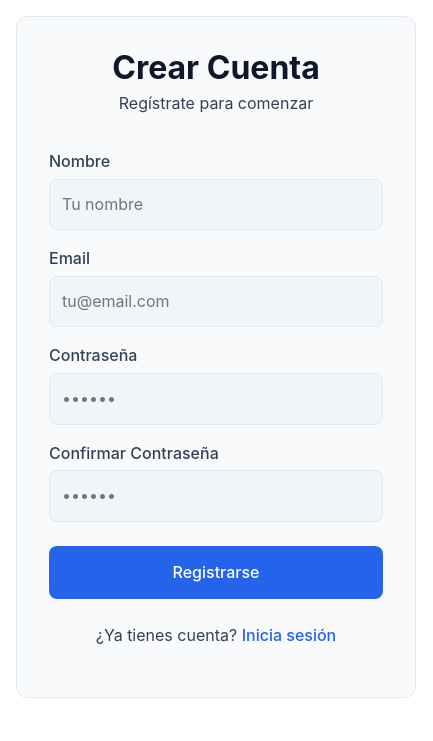
Flujo de Autenticación › Register › debe validar que las contraseñas coincidan
This screenshot has width=433, height=741.
Type "Test User" into the field labelled "Nombre" at (216, 204), box [49, 179, 383, 230]
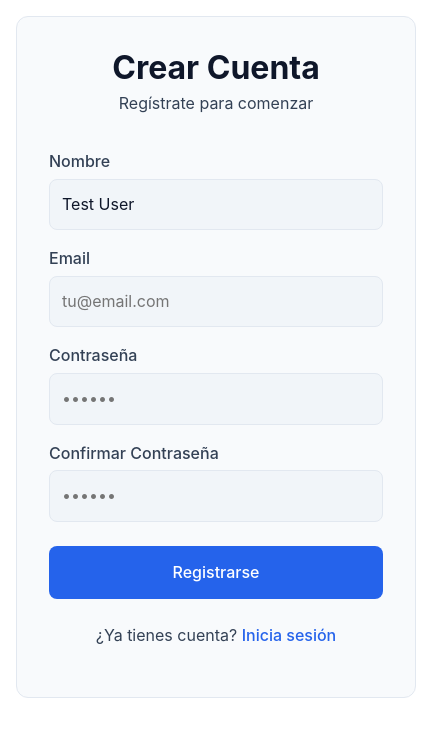
Type "test@test.com" into the field labelled "Email" at (216, 302), box [49, 276, 383, 327]
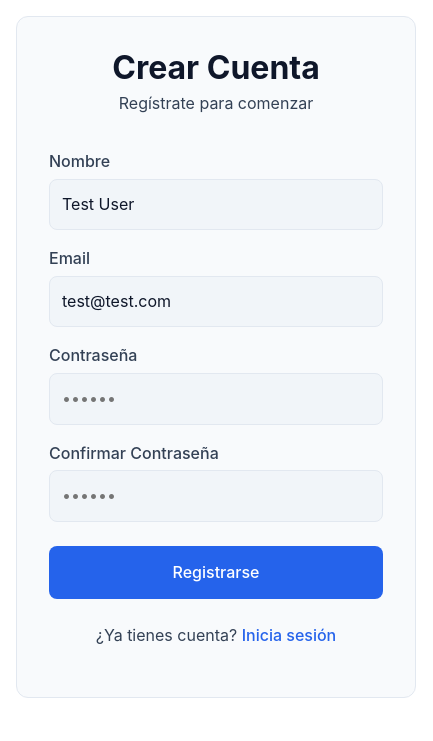
Type "password123" into the password field labelled "Contraseña" at (216, 399), box [49, 373, 383, 425]
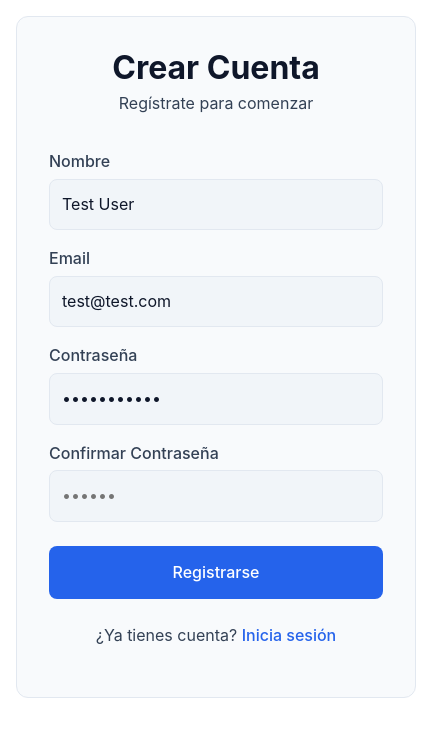
Type "password456" into the password field labelled "Confirmar Contraseña" at (216, 496), box [49, 470, 383, 522]
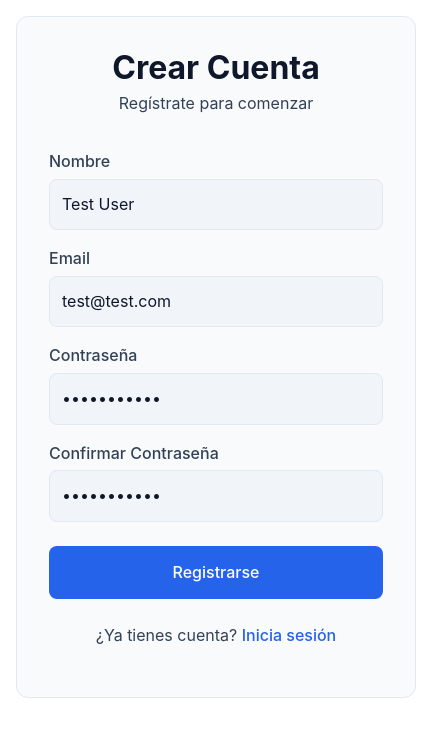
Click the button "Registrarse" at (216, 572), box [49, 546, 383, 599]
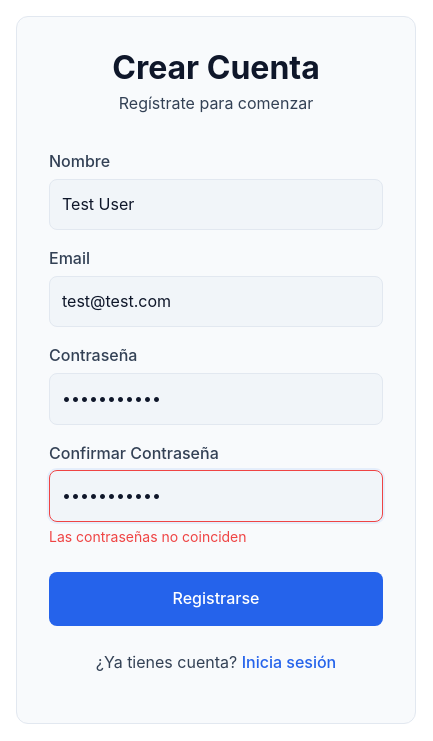
expect the text "Las contraseñas no coinciden" is shown: met, box [49, 528, 246, 545]
